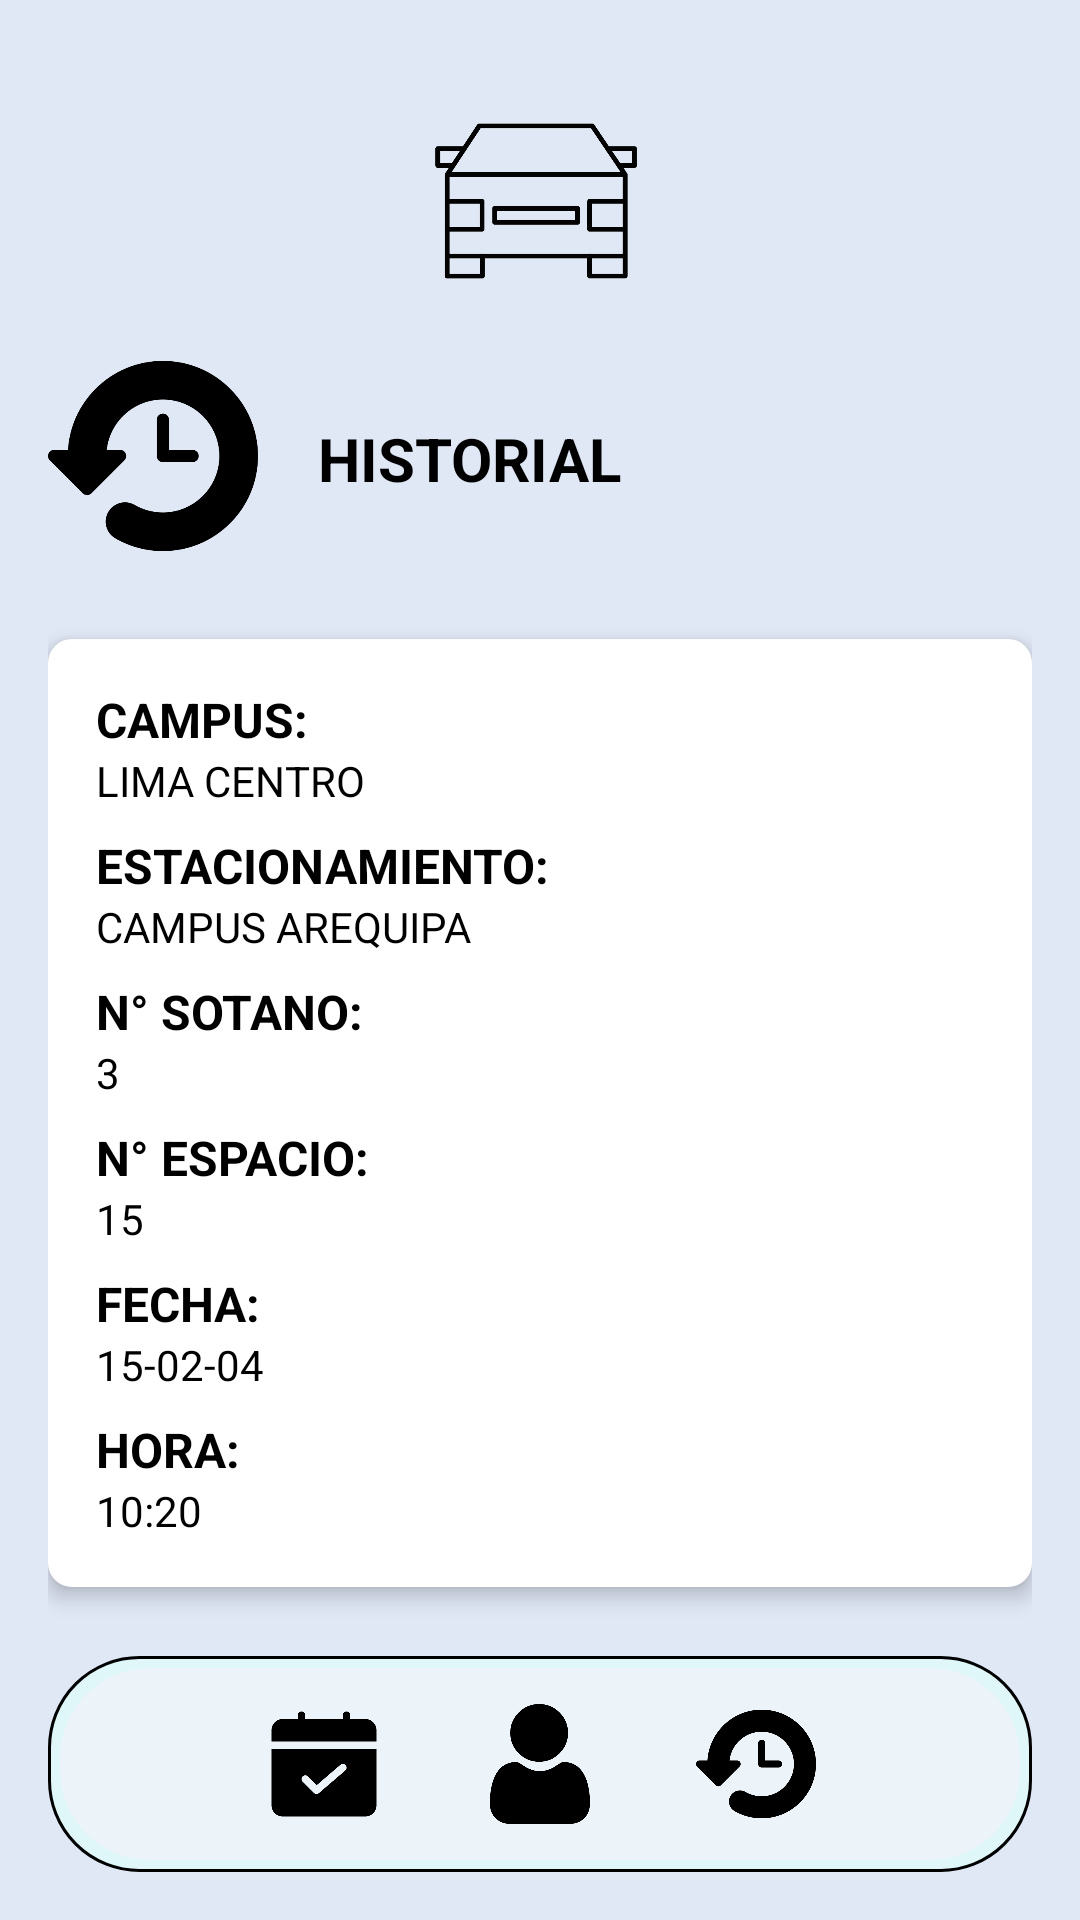

Where to tap for icons on this 1080 x 1920 app screen, as (x=x, y=y):
calendar: (x=324, y=1764)
car: (x=536, y=201)
user: (x=540, y=1764)
